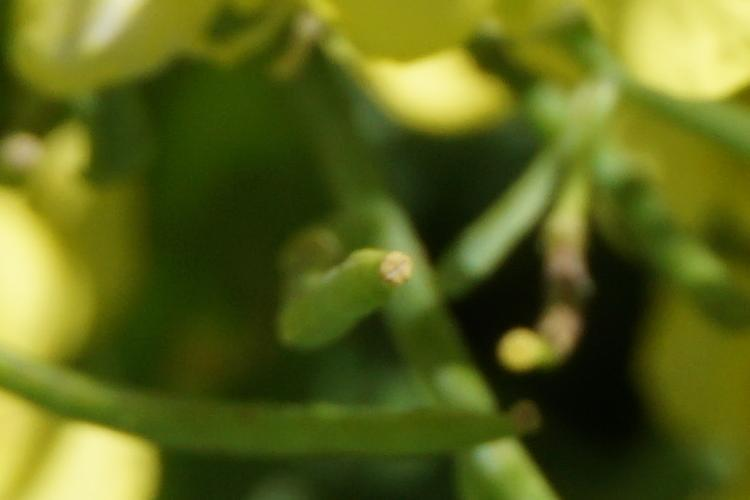pod: (28, 355, 555, 477), (503, 182, 634, 405), (291, 210, 427, 350)
